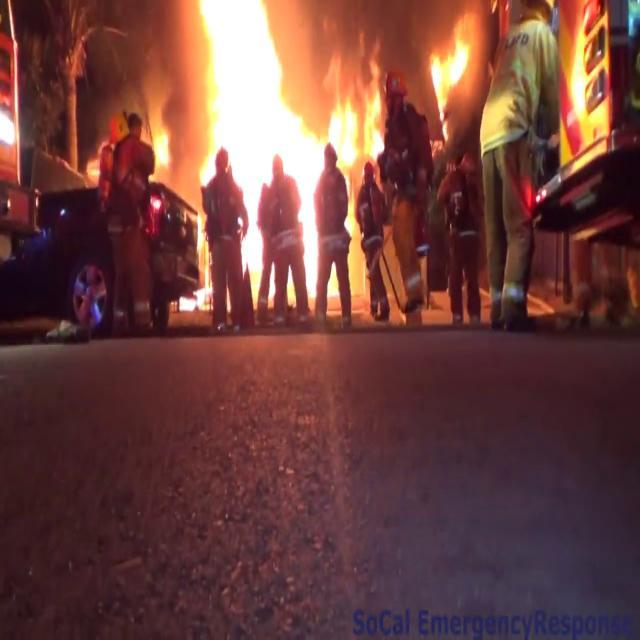Fire: (172, 0, 388, 319), (429, 16, 475, 132)
